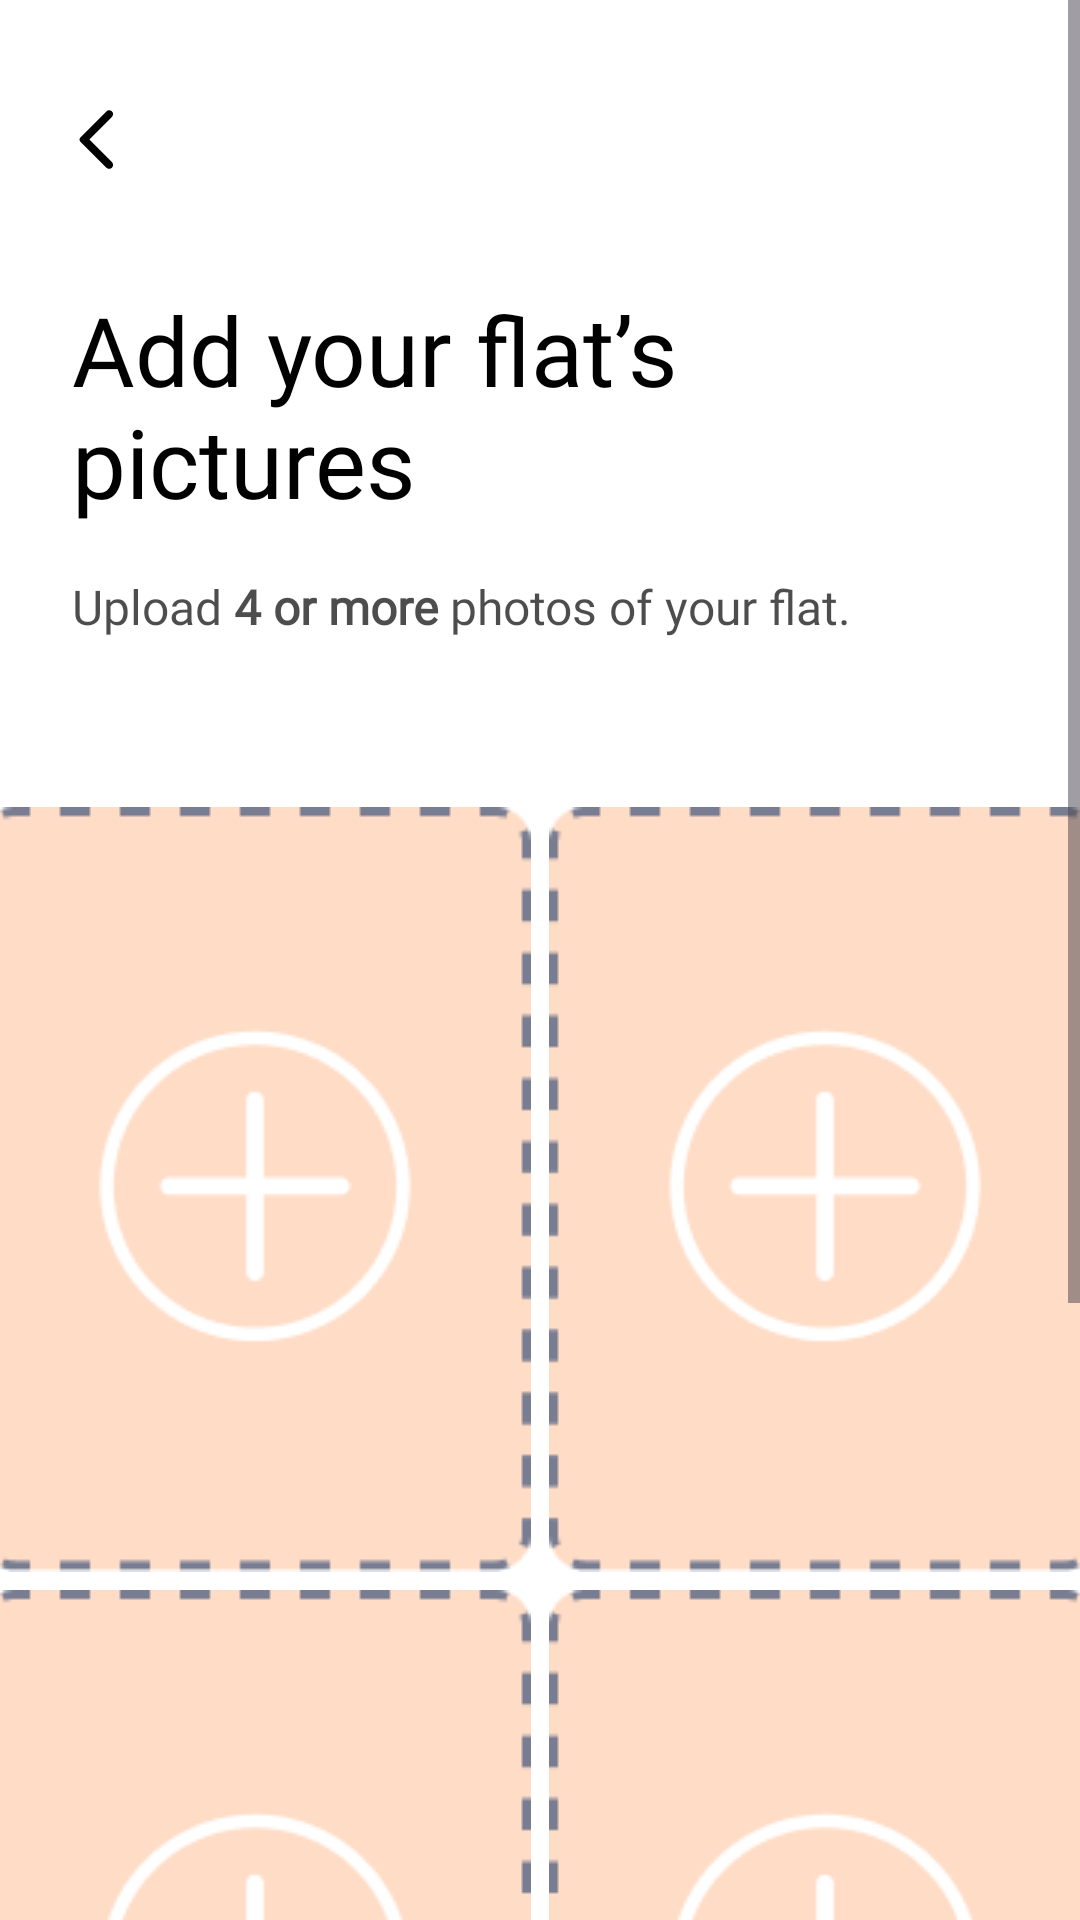

Icon bounding boxes for this 1080w x 1920h phone screenshot, format (x1, y1, x2, y2):
arrow back: (79, 110, 113, 169)
